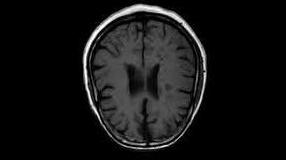Normal_Brain: (75, 1, 255, 160)
